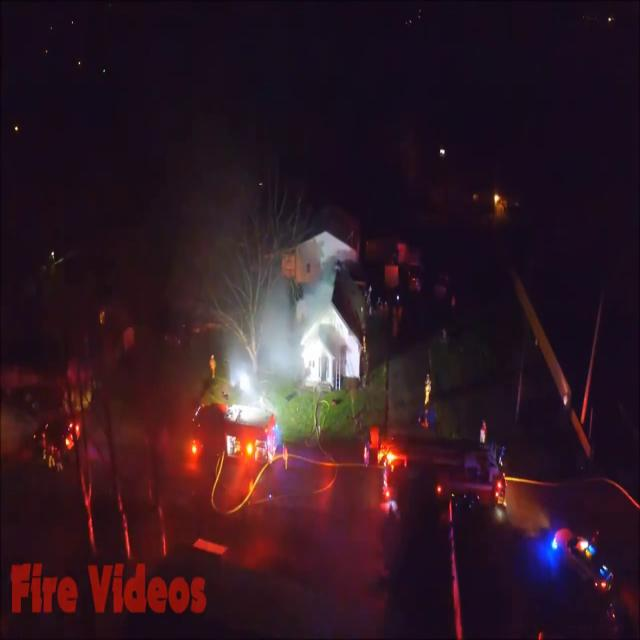smoke: (227, 236, 343, 429)
